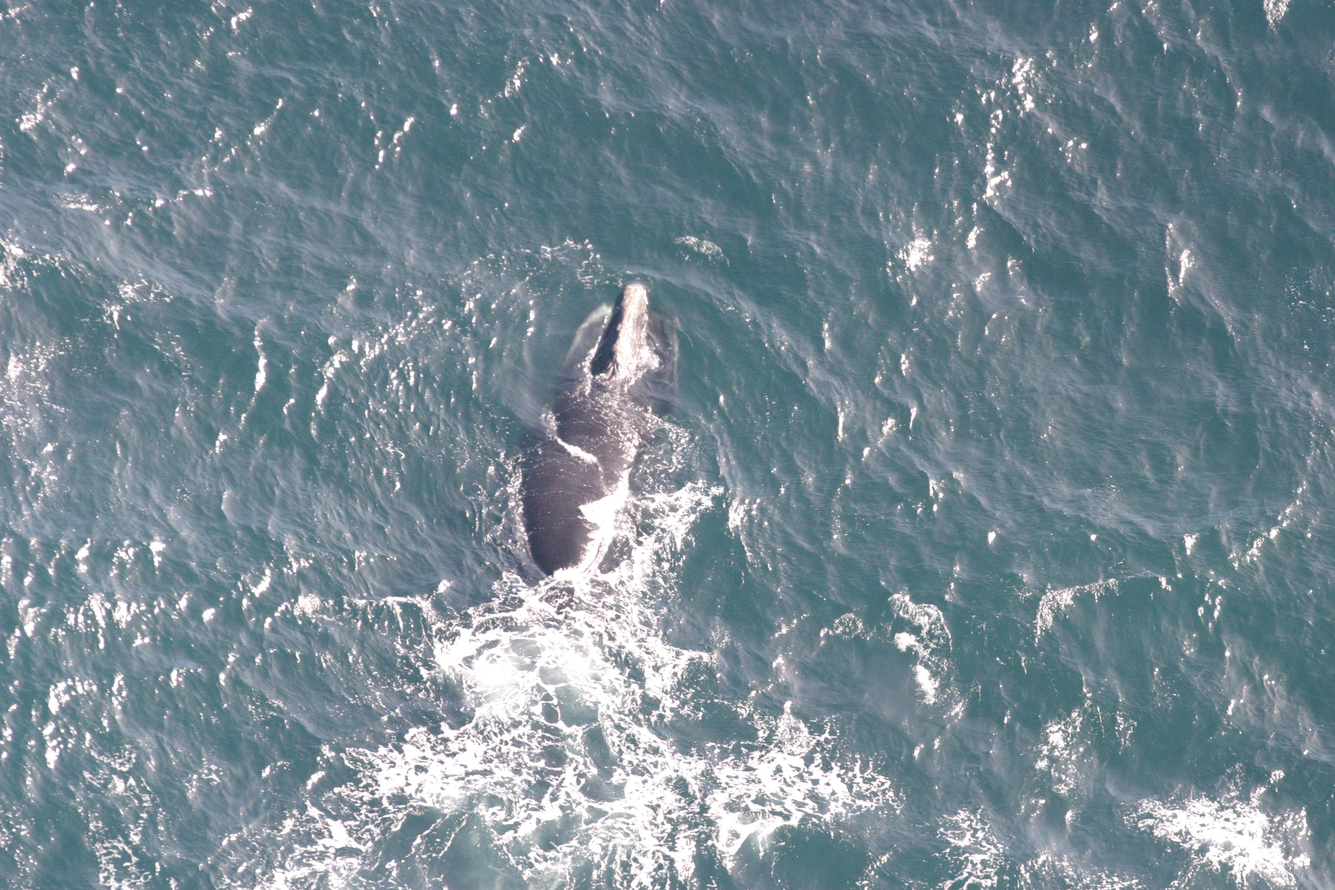whale: (507, 268, 693, 686)
